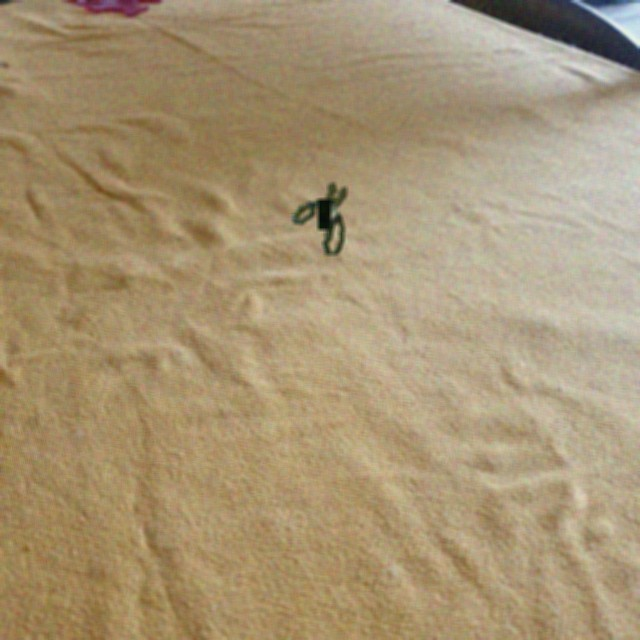scissors: (292, 183, 347, 255)
